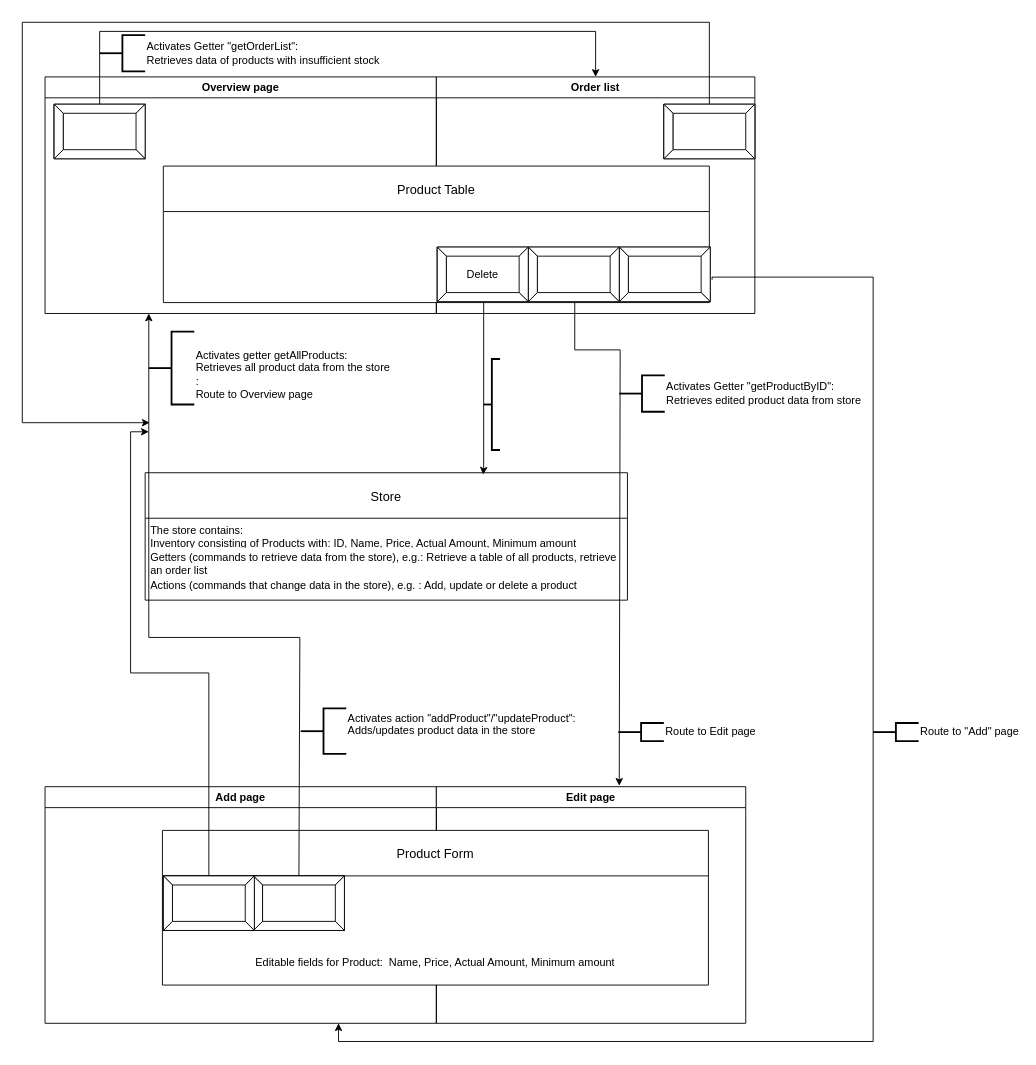
This 1036x1065 diagram has some shape labels left out. Here are the shapes that lost their labels. From the top down, the centre of each, then its label:
point 99,131: Order
point 709,131: Overview
point 573,274: Edit
point 664,274: Add
point 491,404: Activates action "deleteItemByID": Deletes the product's data from the store
point 208,902: Cancel
point 298,902: Confirm
